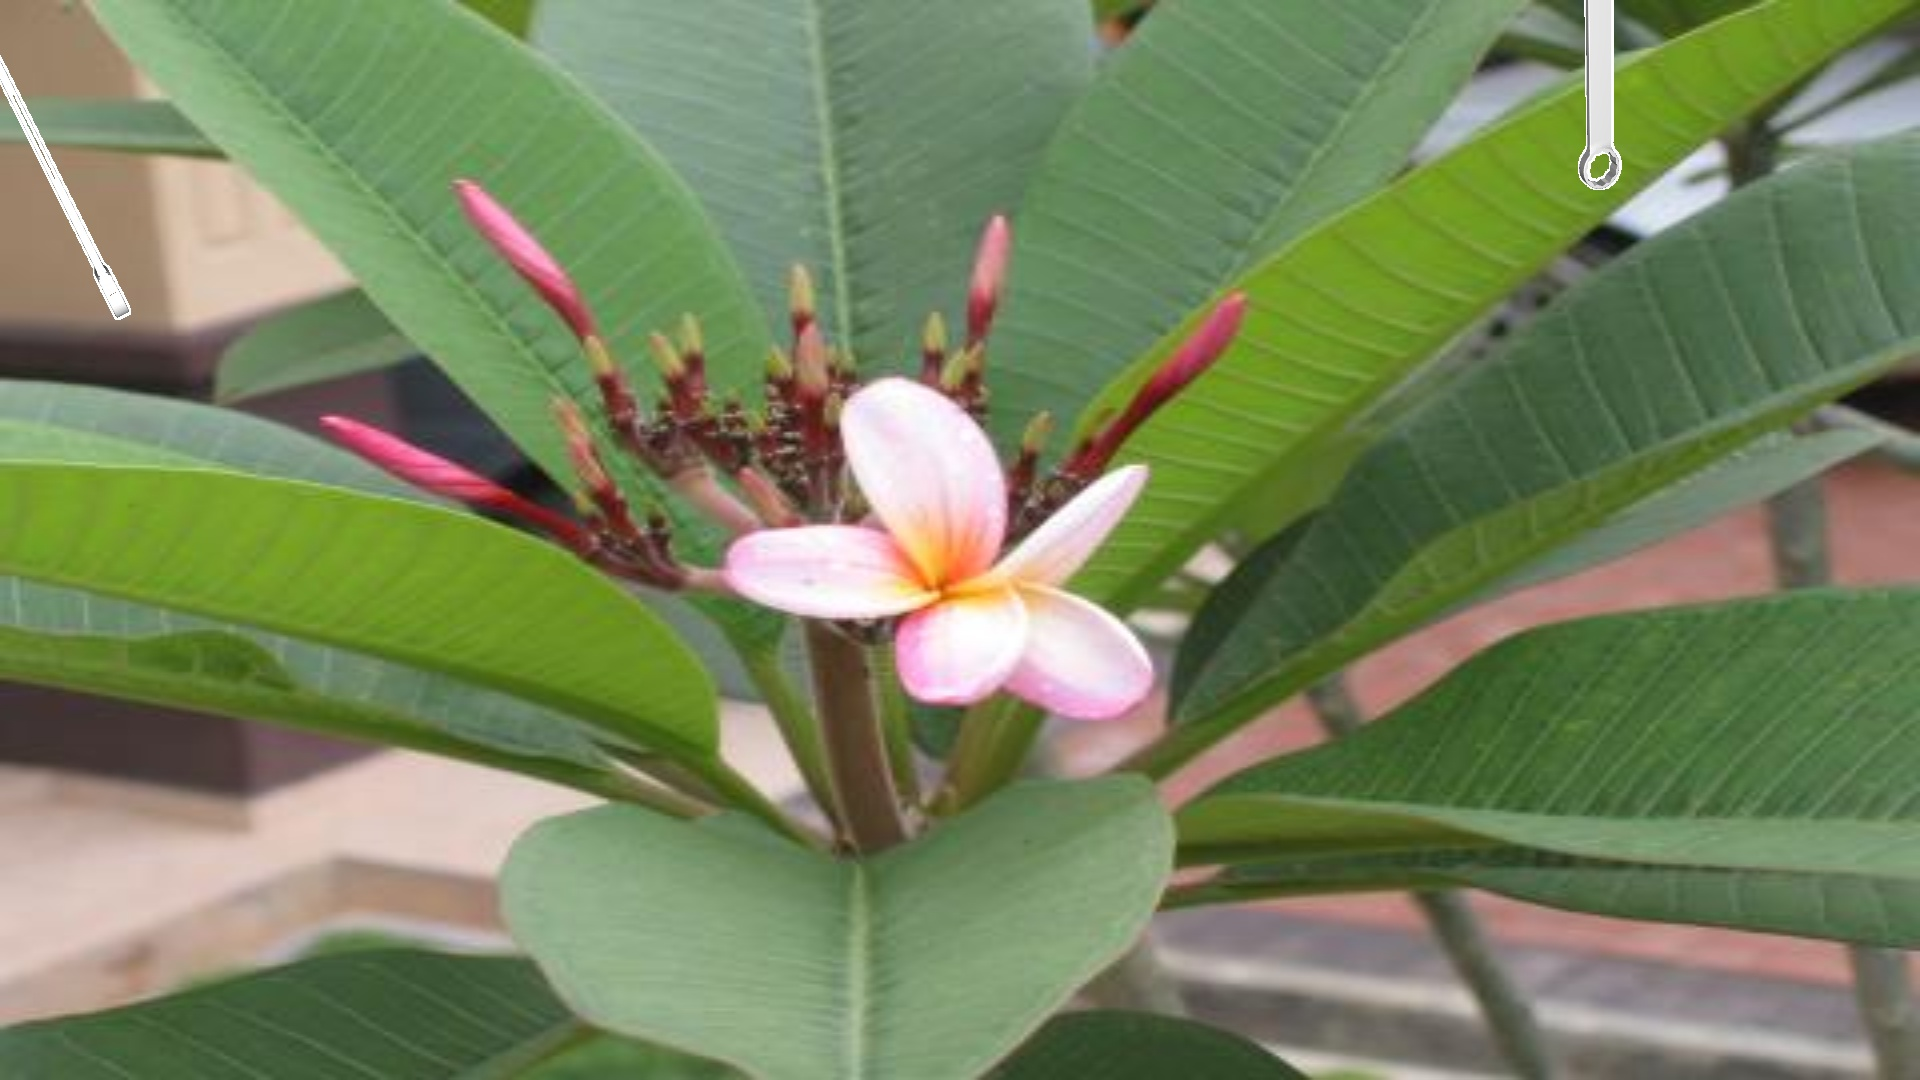Mixed Key: (0, 55, 131, 319), (1578, 0, 1621, 189)
